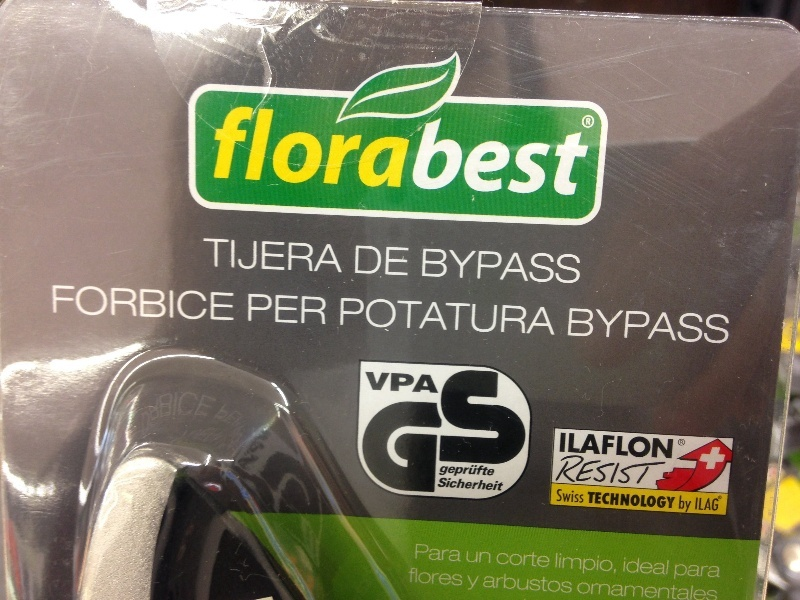text: (513, 369, 529, 466), (449, 369, 464, 466), (465, 369, 480, 466), (481, 369, 496, 466), (497, 369, 512, 466), (369, 400, 384, 493), (385, 400, 400, 493), (401, 400, 416, 493), (417, 400, 432, 493), (225, 106, 240, 189), (241, 106, 256, 189), (257, 106, 272, 189), (273, 106, 288, 189), (289, 106, 304, 189), (305, 106, 320, 189), (321, 106, 336, 189), (337, 106, 352, 189), (353, 106, 368, 189), (369, 106, 384, 189), (385, 106, 400, 189), (401, 106, 416, 189), (433, 117, 448, 197), (449, 117, 464, 197), (465, 117, 480, 197), (481, 117, 496, 197), (497, 117, 512, 197), (513, 117, 528, 197), (529, 117, 544, 197), (545, 117, 560, 197), (561, 117, 576, 197), (577, 117, 591, 197), (433, 400, 444, 493), (145, 393, 160, 450), (161, 393, 176, 450), (177, 393, 192, 450), (193, 393, 208, 450), (209, 393, 224, 450), (225, 393, 240, 450), (442, 369, 448, 466), (353, 298, 368, 336), (369, 298, 384, 336), (385, 298, 400, 336), (401, 298, 416, 336), (417, 298, 432, 336), (433, 298, 448, 336), (449, 298, 464, 336), (465, 298, 480, 336), (481, 298, 496, 336), (497, 298, 512, 336), (513, 298, 528, 336), (529, 298, 544, 336), (577, 308, 592, 344), (593, 308, 608, 344), (609, 308, 624, 344), (625, 308, 640, 344), (641, 308, 656, 344), (657, 308, 672, 344), (673, 308, 688, 344), (689, 308, 704, 344), (705, 308, 720, 344), (209, 238, 224, 273), (225, 238, 240, 273), (241, 238, 256, 273), (257, 238, 272, 273), (273, 238, 288, 273), (289, 238, 304, 273), (305, 238, 320, 273), (321, 238, 336, 273), (433, 249, 448, 284), (449, 249, 464, 284), (465, 249, 480, 284), (481, 249, 496, 284), (497, 249, 512, 284), (513, 249, 528, 284), (529, 249, 544, 284), (545, 249, 560, 284), (561, 249, 576, 284), (65, 286, 80, 321), (81, 286, 96, 321), (97, 286, 112, 321), (113, 286, 128, 321), (129, 286, 144, 321), (145, 286, 160, 321), (161, 286, 176, 321), (177, 286, 192, 321), (193, 286, 208, 321), (209, 286, 224, 321), (657, 430, 673, 460), (257, 294, 272, 325), (273, 294, 288, 325), (289, 294, 304, 325), (305, 294, 320, 325), (136, 393, 144, 450), (241, 393, 249, 450), (369, 246, 384, 276), (385, 246, 400, 276), (577, 430, 592, 460), (593, 430, 608, 460), (609, 430, 624, 460), (625, 430, 640, 460), (641, 430, 656, 460), (577, 455, 592, 485), (593, 455, 608, 485), (609, 455, 624, 485), (625, 455, 640, 485), (641, 455, 656, 485), (52, 286, 64, 321), (562, 430, 576, 460), (562, 455, 576, 485), (341, 298, 352, 336), (219, 106, 224, 189), (545, 298, 555, 336), (356, 246, 368, 276), (561, 553, 576, 576), (577, 553, 592, 576), (593, 553, 608, 576), (369, 372, 384, 394), (385, 372, 400, 394), (401, 372, 416, 394), (417, 372, 432, 394), (428, 117, 432, 197), (225, 286, 234, 321), (593, 579, 608, 600), (609, 579, 624, 600), (625, 579, 640, 600), (641, 579, 656, 600), (657, 579, 672, 600), (673, 579, 688, 600), (689, 579, 704, 600), (497, 573, 512, 593), (513, 573, 528, 593), (529, 573, 544, 593), (545, 573, 560, 593), (721, 308, 729, 344), (417, 544, 432, 563), (433, 544, 448, 563), (417, 568, 432, 587), (433, 568, 448, 587), (424, 249, 432, 284), (579, 579, 592, 600), (657, 455, 666, 485), (513, 550, 528, 568), (529, 550, 544, 568), (625, 558, 640, 576), (641, 558, 656, 576), (449, 568, 463, 587), (593, 492, 608, 509), (609, 492, 624, 509), (625, 492, 640, 509), (641, 492, 656, 509), (657, 492, 672, 509), (498, 550, 512, 568), (705, 579, 717, 600), (248, 294, 256, 325), (401, 246, 409, 276), (449, 544, 461, 563), (689, 564, 704, 579), (705, 564, 720, 579), (485, 573, 496, 593), (561, 573, 572, 593), (570, 308, 576, 344), (657, 558, 669, 576), (449, 464, 464, 478), (465, 464, 480, 478), (561, 489, 576, 503), (481, 464, 495, 478), (705, 498, 719, 512), (449, 478, 464, 491), (465, 478, 480, 491), (481, 478, 496, 491), (467, 576, 480, 591), (675, 564, 688, 579), (321, 294, 327, 325), (366, 400, 368, 493), (203, 238, 208, 273), (337, 238, 342, 273), (467, 551, 480, 564), (609, 553, 616, 576), (583, 114, 592, 130), (577, 249, 581, 284), (680, 496, 688, 513), (409, 568, 416, 587), (481, 551, 491, 564), (433, 372, 438, 394), (577, 489, 584, 503), (697, 498, 704, 512), (441, 478, 448, 491), (497, 478, 504, 491), (545, 550, 550, 568), (442, 464, 448, 478), (678, 439, 688, 447), (557, 553, 560, 576), (588, 492, 592, 509), (689, 496, 693, 513), (365, 372, 368, 394), (673, 492, 675, 509), (593, 114, 595, 130), (558, 489, 560, 503), (718, 496, 720, 500), (721, 496, 722, 500)
